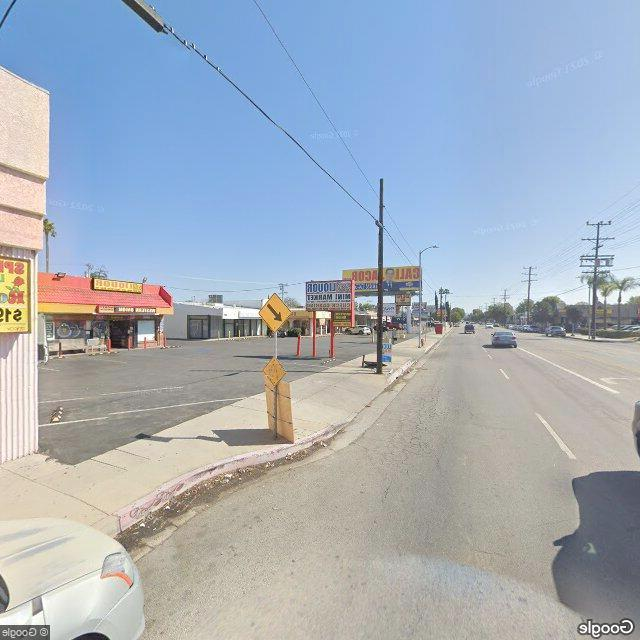crack: (369, 376, 456, 466)
